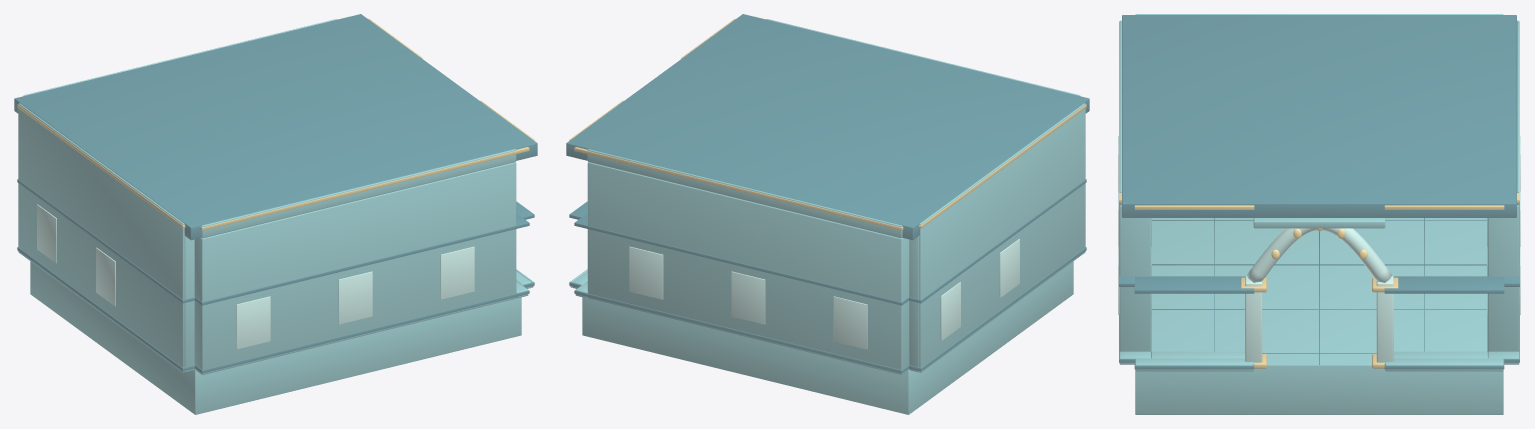
Rendered from atlantis_district_crypt.glb.
3 views of the same model, side by side, from view 1: azimuth 30°, elevation 25°; view 2: azimuth 150°, elevation 25°; view 3: azimuth 270°, elevation 25° (orthographic). The views are drawn at different scales.
Visible parts, largest first — view 1: atlantis_district_crypt_surface; view 2: atlantis_district_crypt_surface; view 3: atlantis_district_crypt_surface.
Boxes of the visible parts, bbox=[...] form: atlantis_district_crypt_surface: bbox=[14, 14, 537, 414]; atlantis_district_crypt_surface: bbox=[566, 14, 1089, 414]; atlantis_district_crypt_surface: bbox=[1118, 14, 1520, 414].
Size of the model in its own units: 17.27 by 9.1 by 15.28.
